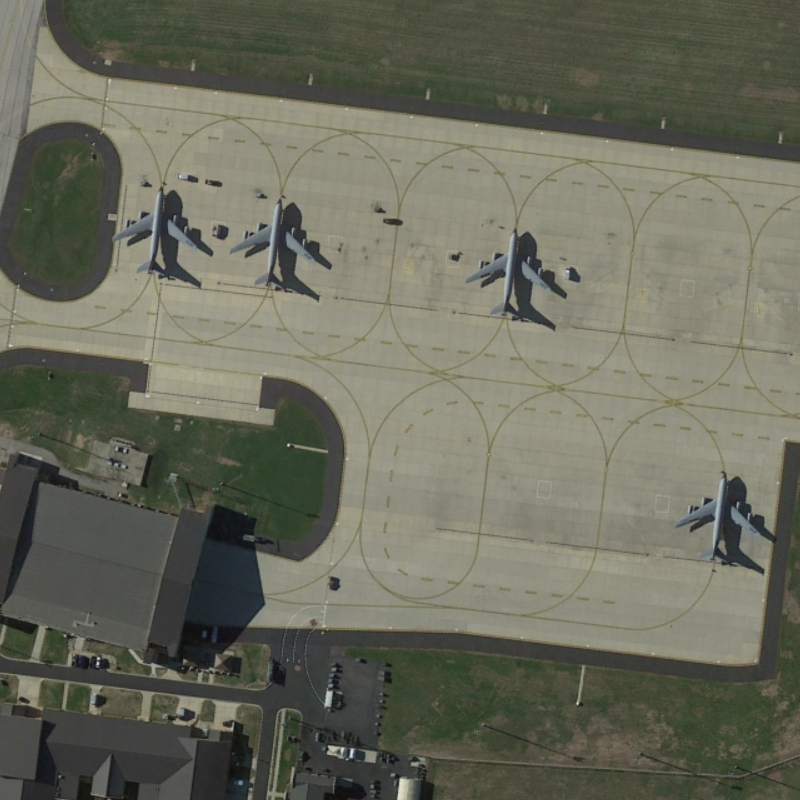A14: (463, 223, 559, 324), (669, 466, 765, 567), (111, 181, 206, 281), (227, 194, 319, 294)
